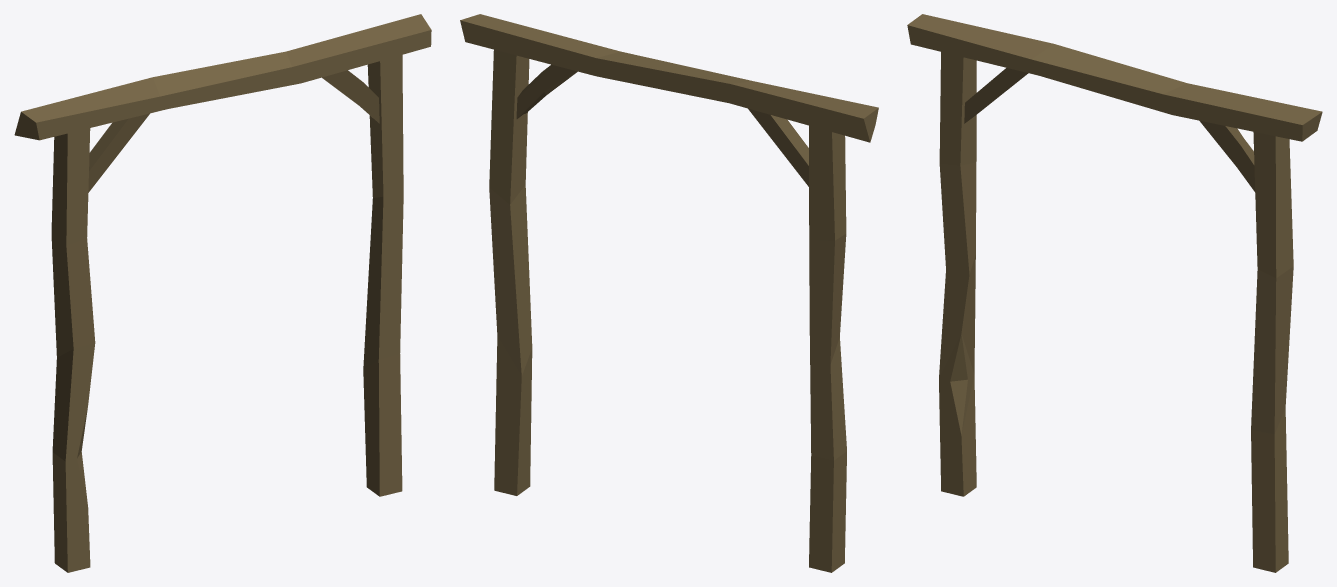
Rendered from Gates_2.fbx.
The picture shows the model from 3 angles, left to right: view 1: azimuth 30°, elevation 25°; view 2: azimuth 150°, elevation 25°; view 3: azimuth 330°, elevation 25°; orthographic projection.
Parts seen in each view (by area): view 1: Gates_2; view 2: Gates_2; view 3: Gates_2.
Boxes of the visible parts, x1=… form: Gates_2: x1=14, y1=14, x2=431, y2=572; Gates_2: x1=460, y1=14, x2=878, y2=572; Gates_2: x1=907, y1=14, x2=1322, y2=572.
Size of the model in its own units: 277 by 301 by 17.87.
